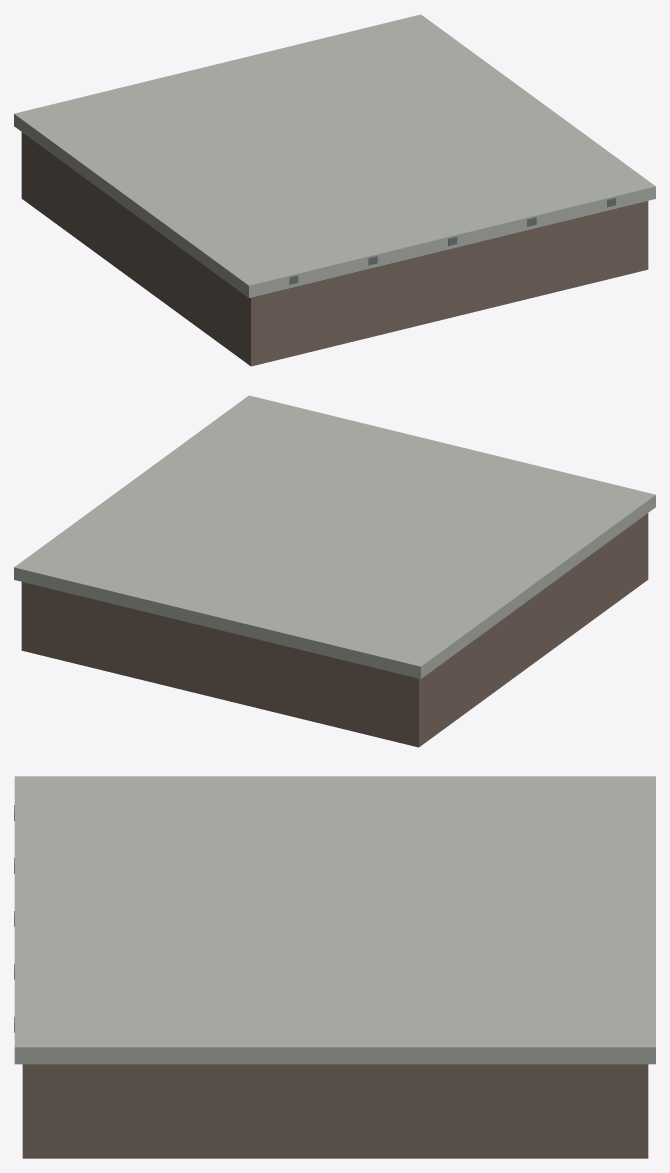
The model's file is base_madeira_templo.glb.
3 views of the same model, one above another, from view 1: azimuth 30°, elevation 25°; view 2: azimuth 150°, elevation 25°; view 3: azimuth 270°, elevation 25° (orthographic). The views are drawn at different scales.
Visible parts, largest first — view 1: base_madeira_templo_part_001, base_madeira_templo_part_000; view 2: base_madeira_templo_part_001, base_madeira_templo_part_000; view 3: base_madeira_templo_part_001, base_madeira_templo_part_000.
Boxes of the visible parts, <box> form: base_madeira_templo_part_001: <box>14,14,655,297</box>; base_madeira_templo_part_000: <box>21,132,648,366</box>; base_madeira_templo_part_001: <box>14,395,655,678</box>; base_madeira_templo_part_000: <box>21,513,648,747</box>; base_madeira_templo_part_001: <box>14,776,655,1064</box>; base_madeira_templo_part_000: <box>22,1064,648,1158</box>.
Bounding box in the file's own units: 4.1 × 0.81 × 4.11.
